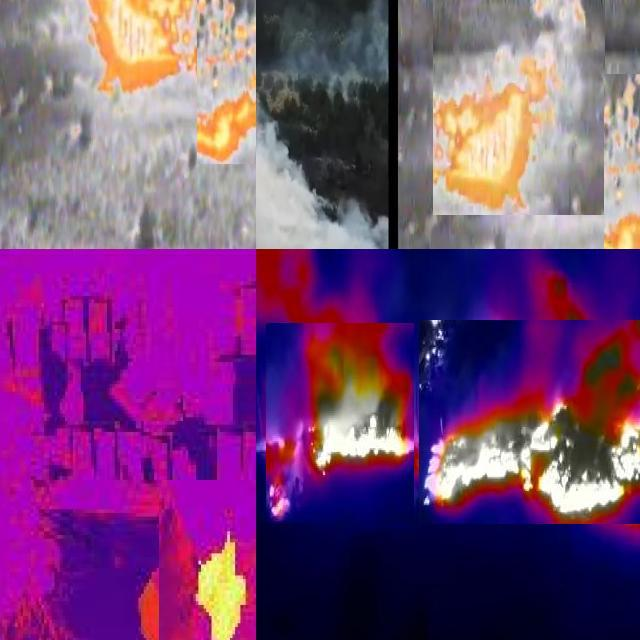fire: (420, 321, 640, 525), (434, 1, 606, 216), (267, 324, 415, 524), (55, 1, 199, 98), (198, 1, 257, 165), (605, 75, 640, 250)
